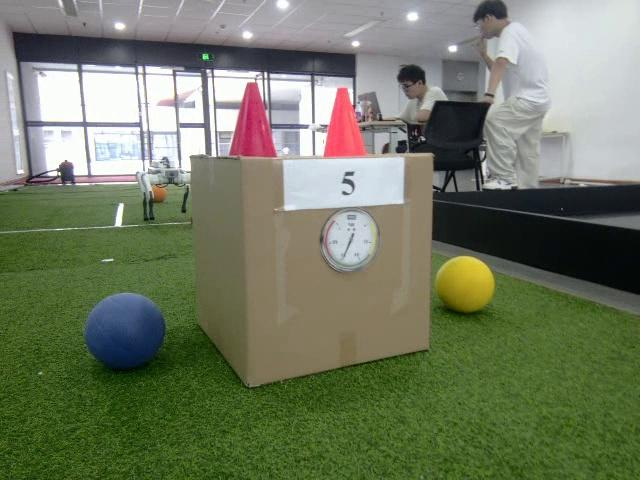5: (340, 169, 357, 196)
Dashboard: (320, 208, 380, 274)
blue_ball: (82, 293, 167, 372)
orange_ball: (151, 182, 168, 204)
orange_barrel: (323, 85, 367, 158)
red_barrel: (228, 80, 279, 160)
ssi: (345, 213, 358, 221)
yellow_ball: (435, 256, 496, 314)
